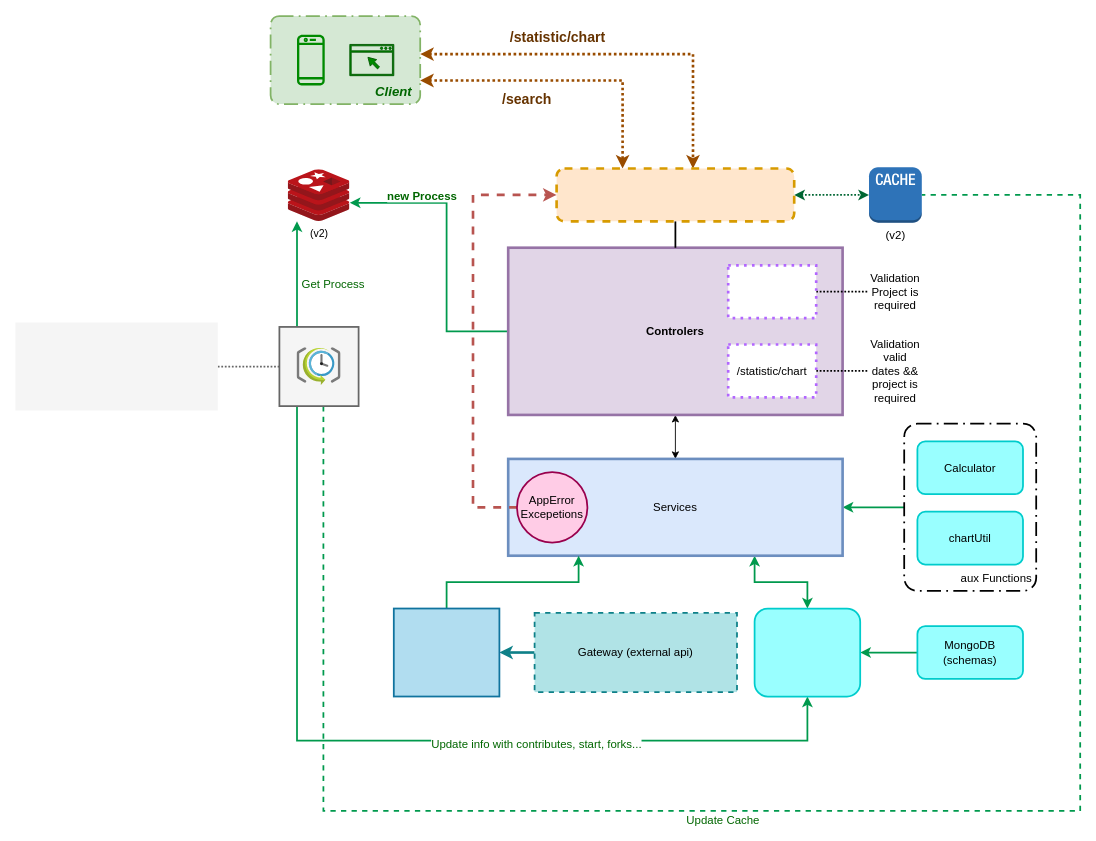
Some shapes in this 1096 by 841 pixel diagram are drawn without their labels. The box of each missing label's shape, as (x1, y1, x2, y2) in pixels:
/seach: (726, 264, 817, 319)
Database: (753, 607, 861, 697)
Job Run Parallel (update info and search more info): (15, 322, 217, 410)
Lib (axios, githubApi): (392, 607, 500, 697)
quality-lib-api: (555, 167, 795, 222)
